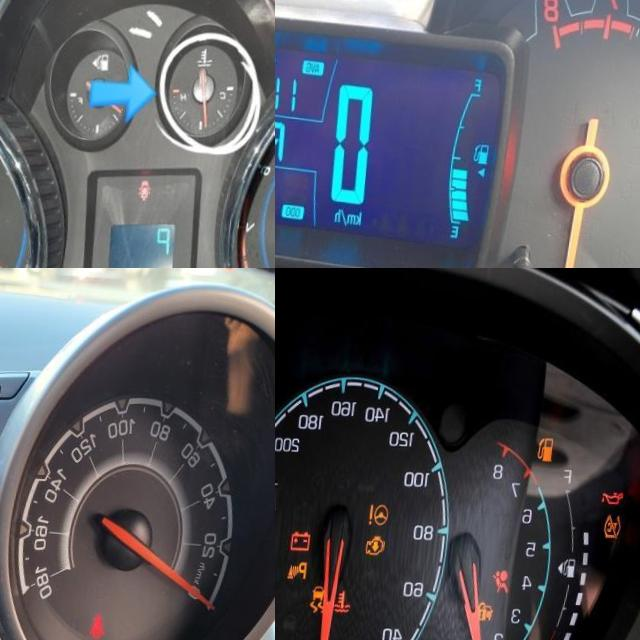Doors: (146, 176, 161, 198)
Engine cooling system: (344, 586, 363, 611)
Low fuel level: (543, 430, 561, 458)
